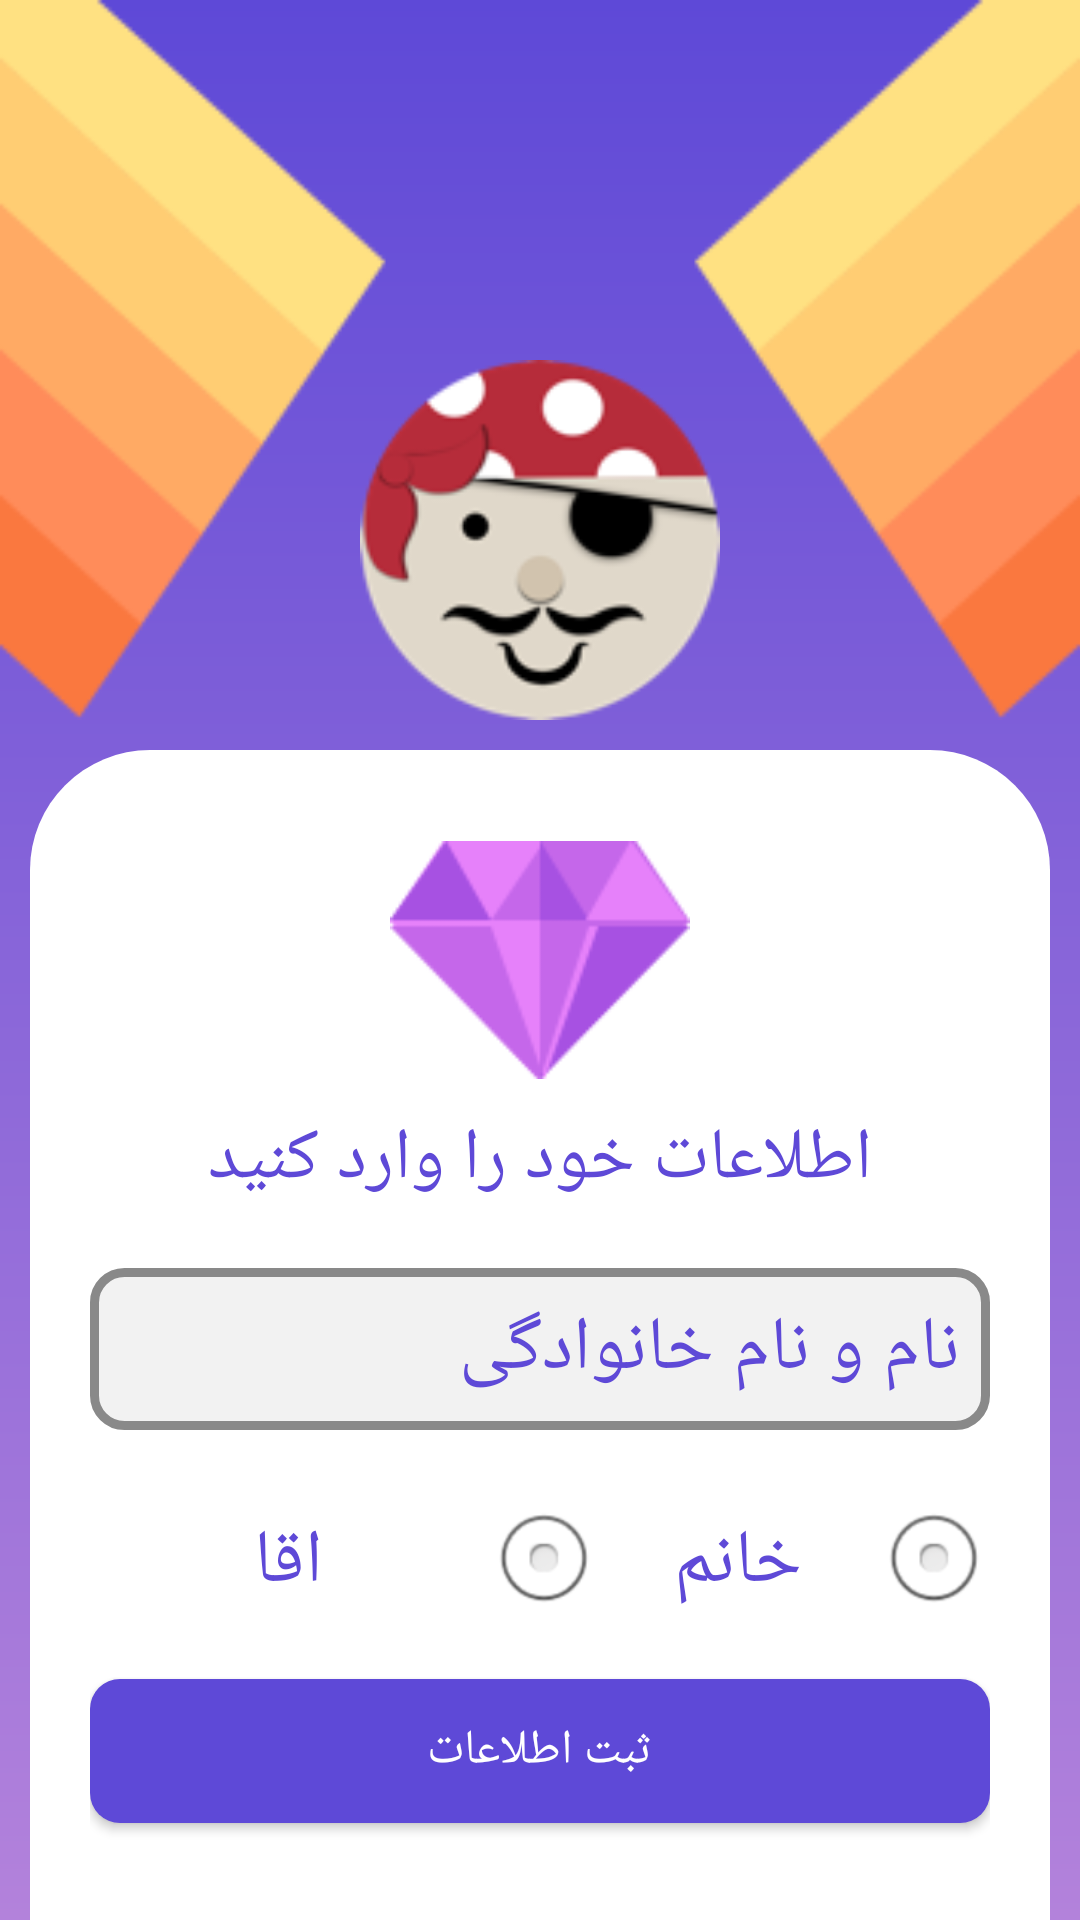

Where icons sit on this 1080 × 1920 app screen, as BBox(x1, y1, x2, y2):
diamond per: BBox(390, 841, 690, 1079)
